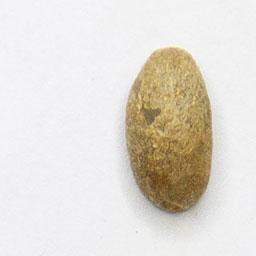longberry: (121, 43, 218, 216)
